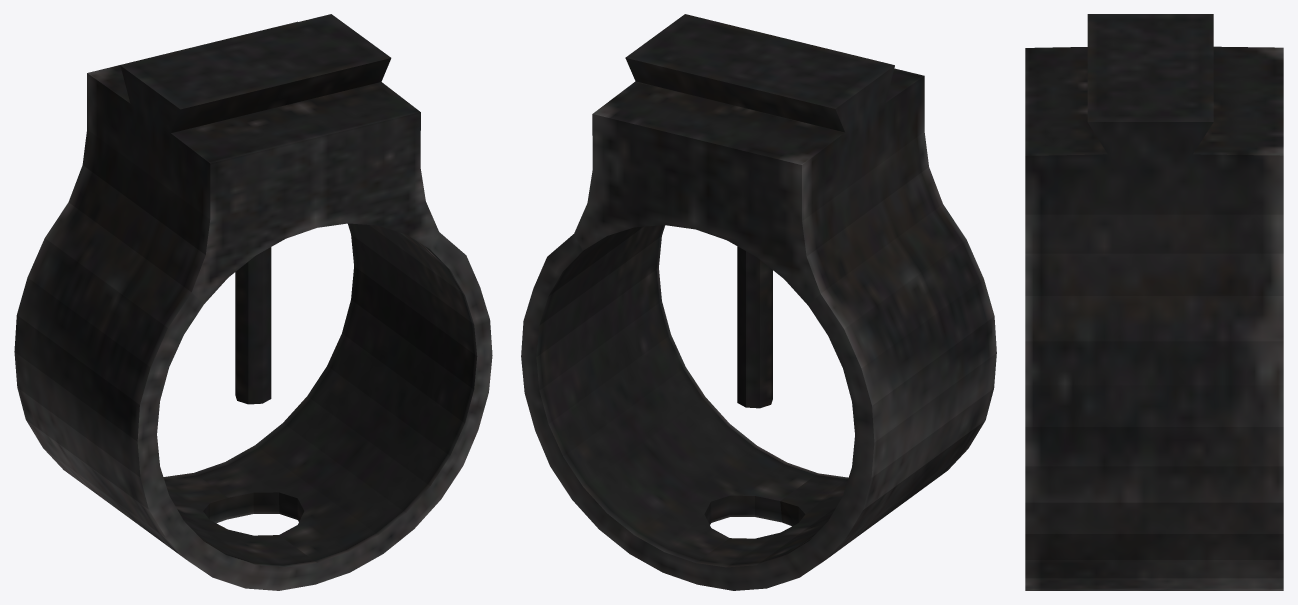
3 renders of one model, left to right at view 1: azimuth 30°, elevation 25°; view 2: azimuth 150°, elevation 25°; view 3: azimuth 270°, elevation 25°, orthographic. The views are drawn at different scales.
Visible parts, largest first — view 1: TW_5ae099875acfc4001714e593_PZ_Import; view 2: TW_5ae099875acfc4001714e593_PZ_Import; view 3: TW_5ae099875acfc4001714e593_PZ_Import.
Boxes of the visible parts, <box> form: TW_5ae099875acfc4001714e593_PZ_Import: <box>14,14,492,590</box>; TW_5ae099875acfc4001714e593_PZ_Import: <box>521,14,996,590</box>; TW_5ae099875acfc4001714e593_PZ_Import: <box>1025,14,1283,590</box>.
Size of the model in its own units: 0.00964 by 0.00579 by 0.0124.
1 material, 1 textured.
